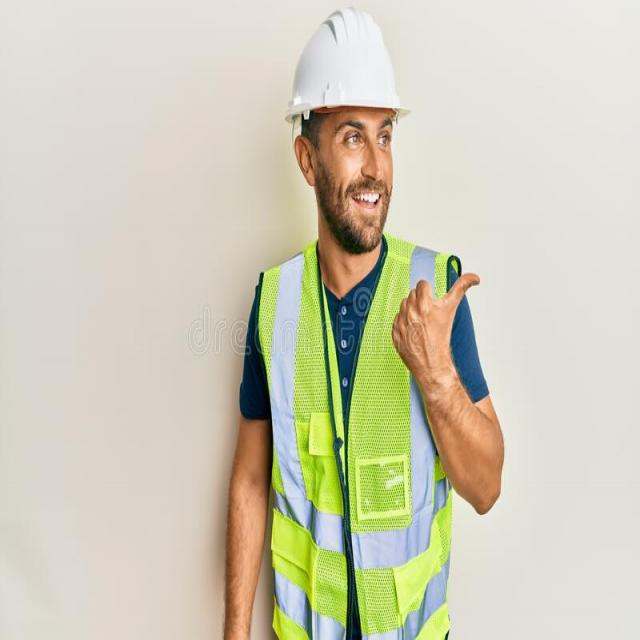Reflective-Jacket: (254, 246, 460, 634)
Safety-Helmet: (280, 5, 410, 128)
